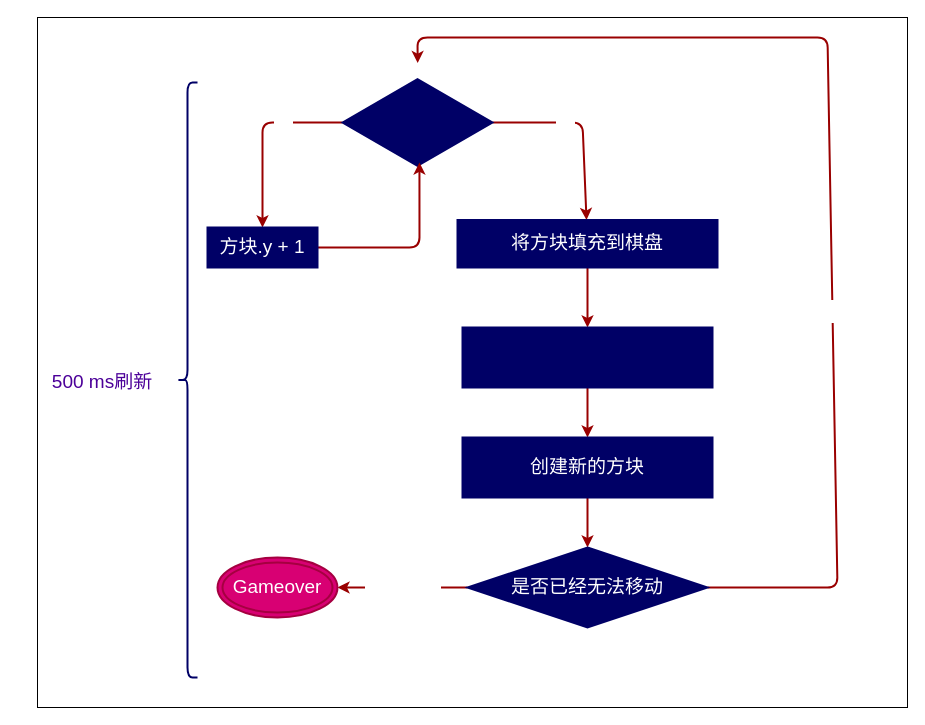
Image size: 925x725. Some labels were removed from this diagram. Each missing label, with the centre of its shape:
"下到上判断消行" goes at [587,357].
"是否可往下" goes at [417,122].
